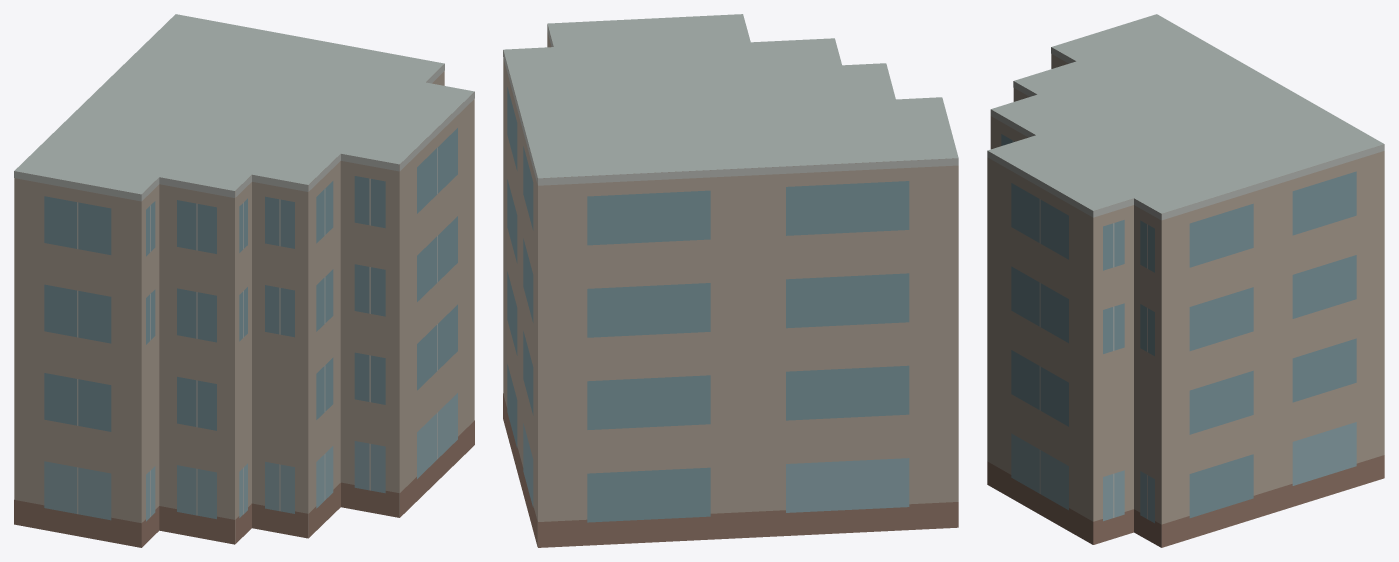
The model's file is residential-e1d30e73-bbb8-427c-8116-5aa8d56b014b.glb.
3 renders of one model, left to right at view 1: azimuth 30°, elevation 25°; view 2: azimuth 150°, elevation 25°; view 3: azimuth 270°, elevation 25°, orthographic. The views are drawn at different scales.
Visible parts, largest first — view 1: residential-e1d30e73-bbb8-427c-8116-5aa8d56b014b.tmp; view 2: residential-e1d30e73-bbb8-427c-8116-5aa8d56b014b.tmp; view 3: residential-e1d30e73-bbb8-427c-8116-5aa8d56b014b.tmp.
Part boxes in pixels (x1,y1,x2,y2): residential-e1d30e73-bbb8-427c-8116-5aa8d56b014b.tmp: (14,14,474,547); residential-e1d30e73-bbb8-427c-8116-5aa8d56b014b.tmp: (503,14,958,547); residential-e1d30e73-bbb8-427c-8116-5aa8d56b014b.tmp: (987,14,1384,547).
Size of the model in its own units: 15.66 by 12.2 by 13.16.
